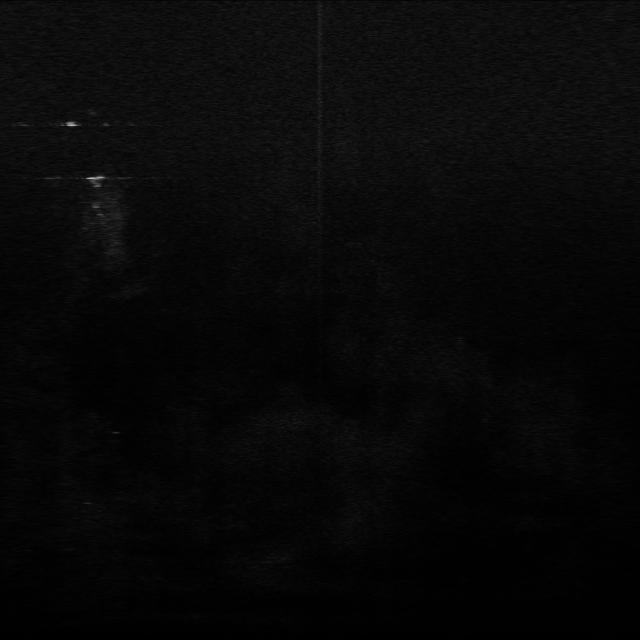rov: (82, 172, 112, 192)
